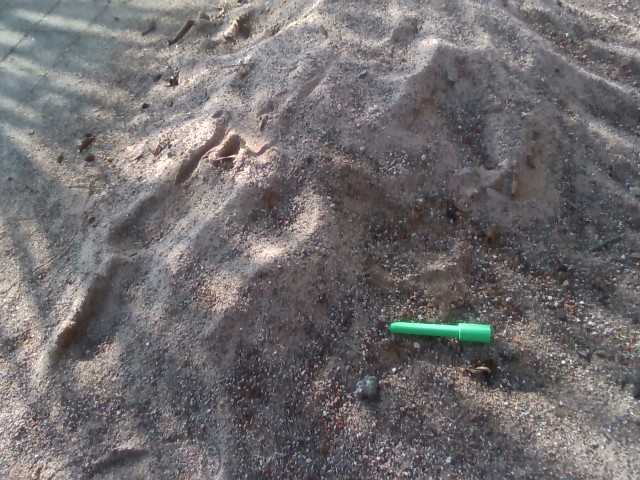Probe: (378, 315, 497, 347)
